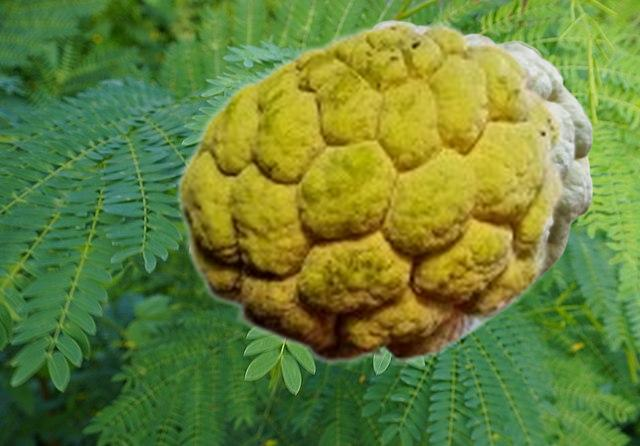atis: (174, 19, 565, 364), (377, 20, 592, 314)
